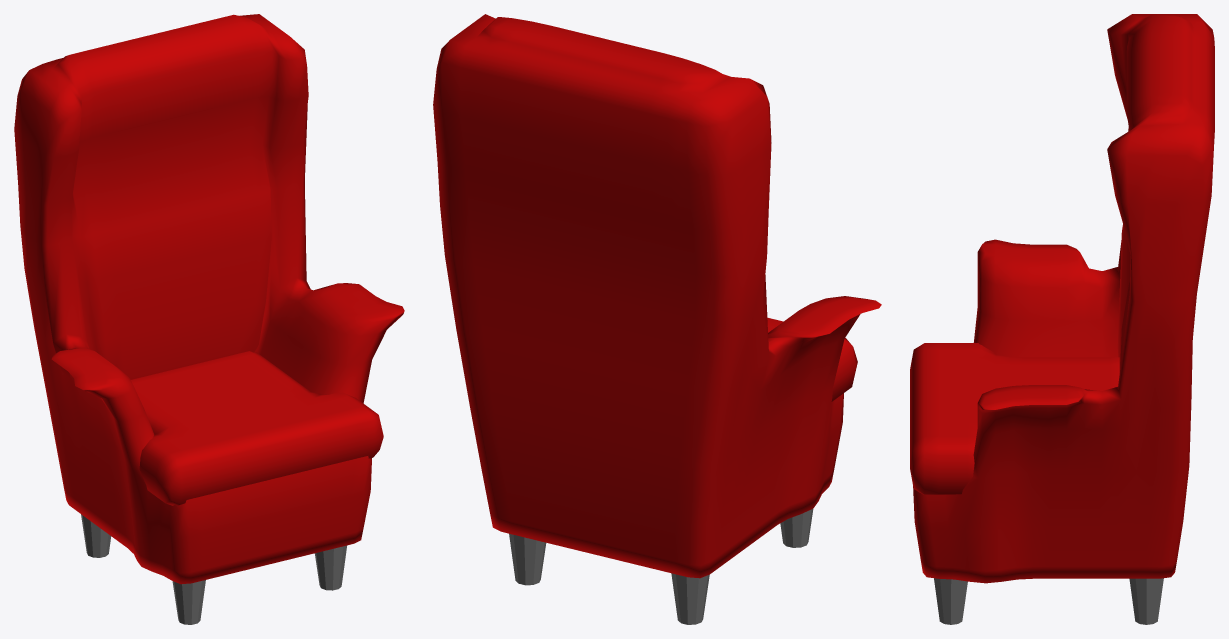
File: throne.fbx
The picture shows the model from 3 angles, left to right: view 1: azimuth 30°, elevation 25°; view 2: azimuth 150°, elevation 25°; view 3: azimuth 270°, elevation 25°; orthographic projection. The views are drawn at different scales.
Parts seen in each view (by area): view 1: pPlane2, pPlane3, pCylinder1, pCylinder2, pCylinder4; view 2: pPlane2, pCylinder4, pCylinder3, pPlane3, pCylinder1; view 3: pPlane2, pPlane3, pCylinder3, pCylinder2.
Part boxes in pixels (x1,y1,x2,y2): pPlane2: [14, 14, 404, 584]; pPlane3: [131, 351, 383, 505]; pCylinder1: [172, 580, 205, 624]; pCylinder2: [314, 545, 347, 590]; pCylinder4: [81, 514, 111, 557]; pPlane2: [433, 14, 881, 578]; pCylinder4: [671, 573, 709, 624]; pCylinder3: [509, 533, 546, 585]; pPlane3: [767, 317, 857, 401]; pCylinder1: [780, 509, 813, 547]; pPlane2: [913, 14, 1214, 583]; pPlane3: [910, 343, 1119, 494]; pCylinder3: [1129, 578, 1163, 624]; pCylinder2: [934, 578, 967, 624].
Size of the model in its own units: 19.81 by 28.33 by 14.97.
